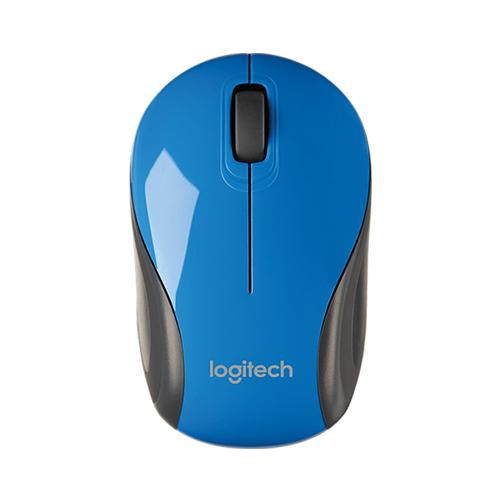logitech-mouse-m185: (126, 48, 373, 444)
